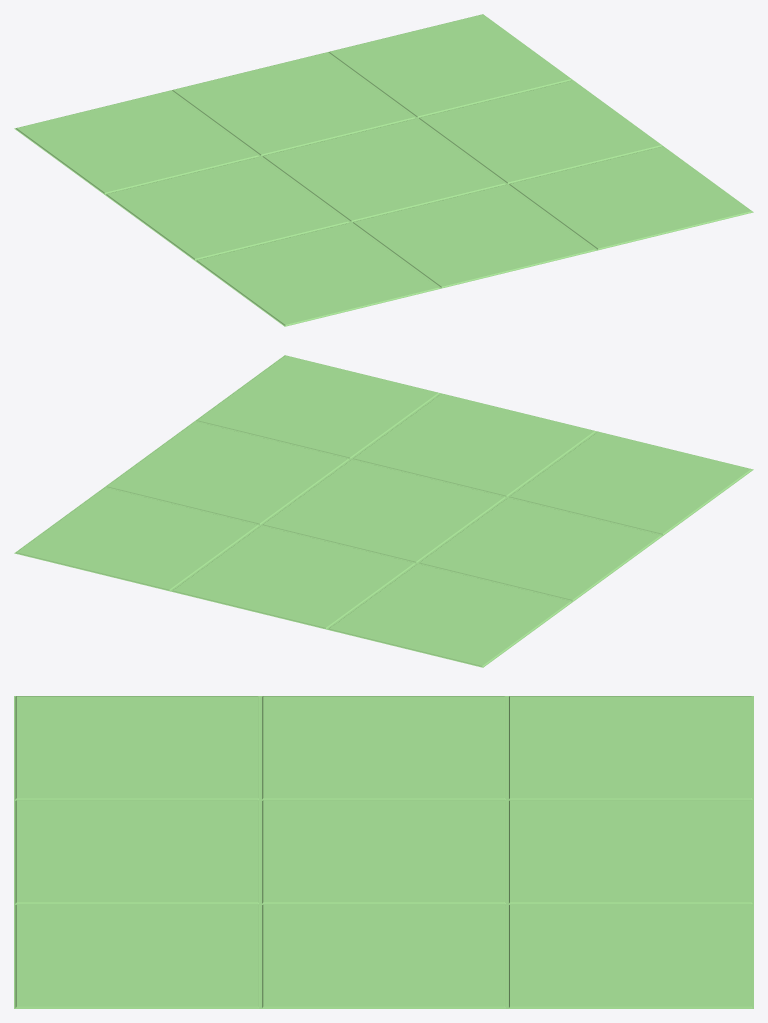
Rendered from Room_ceiling_no_walls.fbx.
3 views of the same model, one above another, from view 1: azimuth 30°, elevation 25°; view 2: azimuth 150°, elevation 25°; view 3: azimuth 270°, elevation 25° (orthographic). The views are drawn at different scales.
Parts seen in each view (by area): view 1: Room_ceiling; view 2: Room_ceiling; view 3: Room_ceiling.
Boxes of the visible parts, <box> form: Room_ceiling: <box>14,14,753,326</box>; Room_ceiling: <box>14,355,753,667</box>; Room_ceiling: <box>14,696,753,1008</box>.
Size of the model in its own units: 2 by 0.00309 by 2.
